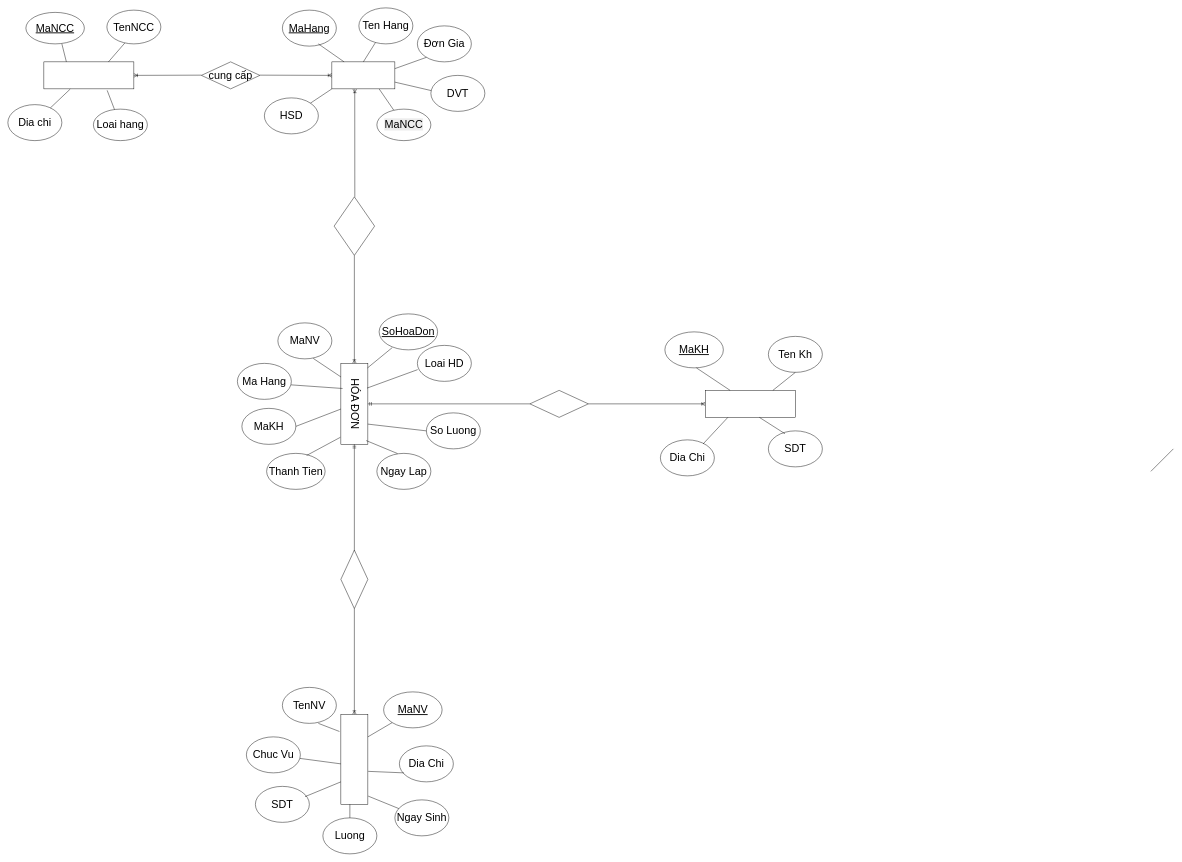
This 1182x862 diagram has some shape labels left out. The centre of each missing label's shape, as x and y in pixels:
"chứa" belongs at (x=354, y=225).
"HÀNG HÓA" belongs at (x=363, y=75).
"KHÁCH HÀNG" belongs at (x=750, y=403).
"lập" belongs at (x=354, y=579).
"NHÀ CUNG CẤP" belongs at (x=88, y=75).
"NHÂN VIÊN" belongs at (x=354, y=759).
"nhận" belongs at (x=558, y=403).
